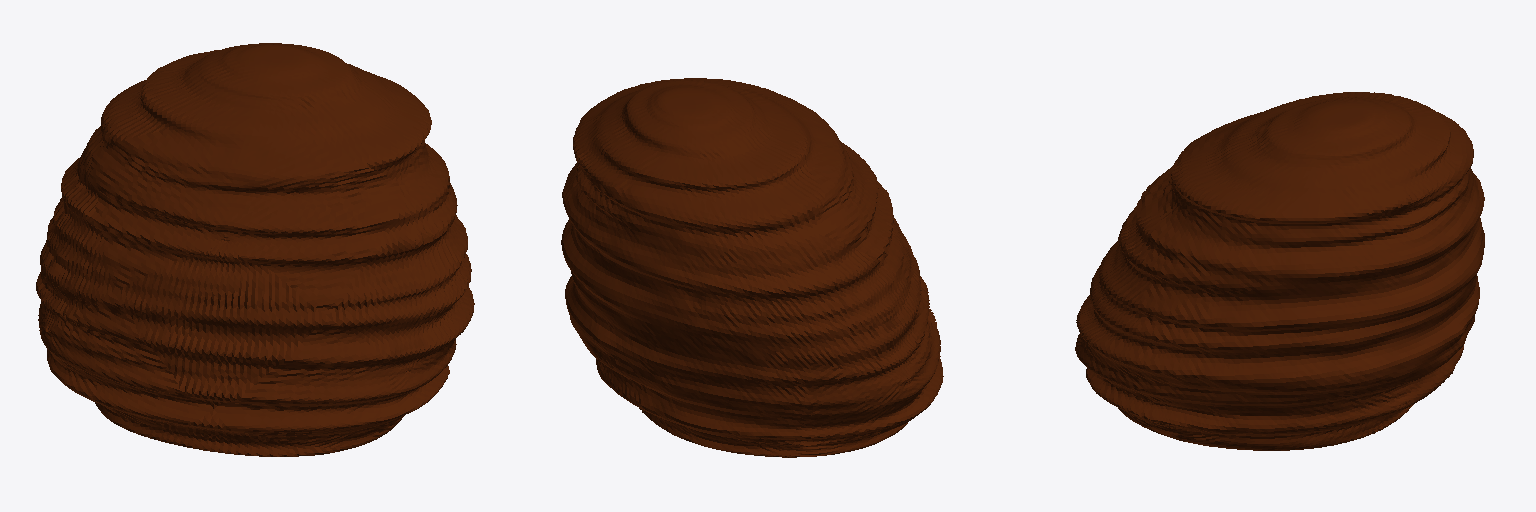
Rendered from sandstone.rock1.obj.
3 renders of one model, left to right at view 1: azimuth 30°, elevation 25°; view 2: azimuth 150°, elevation 25°; view 3: azimuth 270°, elevation 25°, orthographic.
Parts seen in each view (by area): view 1: rock; view 2: rock; view 3: rock.
Part boxes in pixels (x1,y1,x2,y2): rock: (36,43,474,456); rock: (561,78,943,457); rock: (1075,92,1484,450).
Bounding box in the file's own units: 1.2 × 1.07 × 1.2.